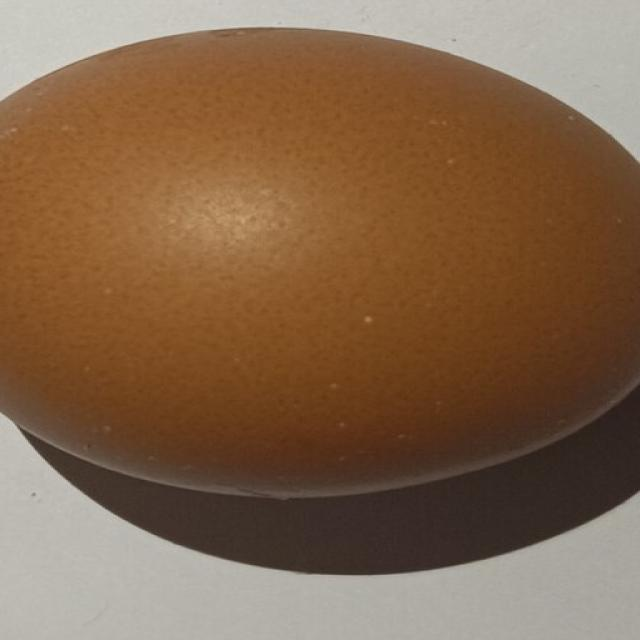fresh: (0, 19, 640, 491)
